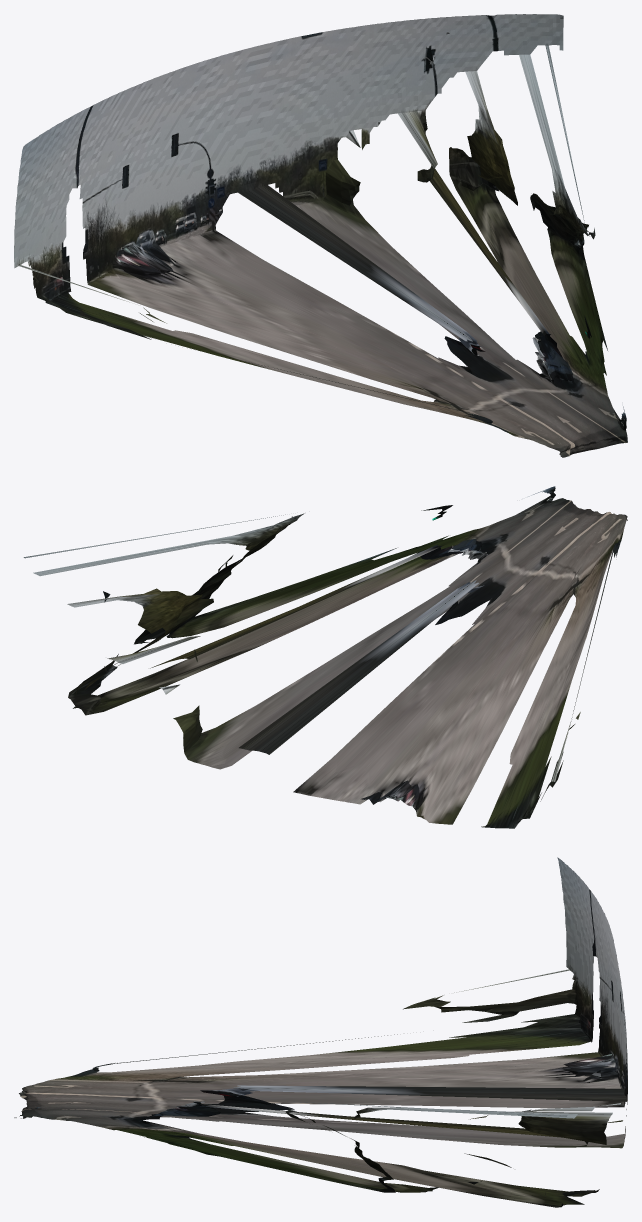
The picture shows the model from 3 angles, top to bottom: view 1: azimuth 30°, elevation 25°; view 2: azimuth 150°, elevation 25°; view 3: azimuth 270°, elevation 25°; orthographic projection. The views are drawn at different scales.
Parts seen in each view (by area): view 1: defaultobject; view 2: defaultobject; view 3: defaultobject.
Part boxes in pixels (<box>): defaultobject: <box>14,14,627,457</box>; defaultobject: <box>23,486,627,828</box>; defaultobject: <box>14,857,627,1207</box>.
Size of the model in its own units: 41 by 13.68 by 44.76.
1 material, 1 textured.
